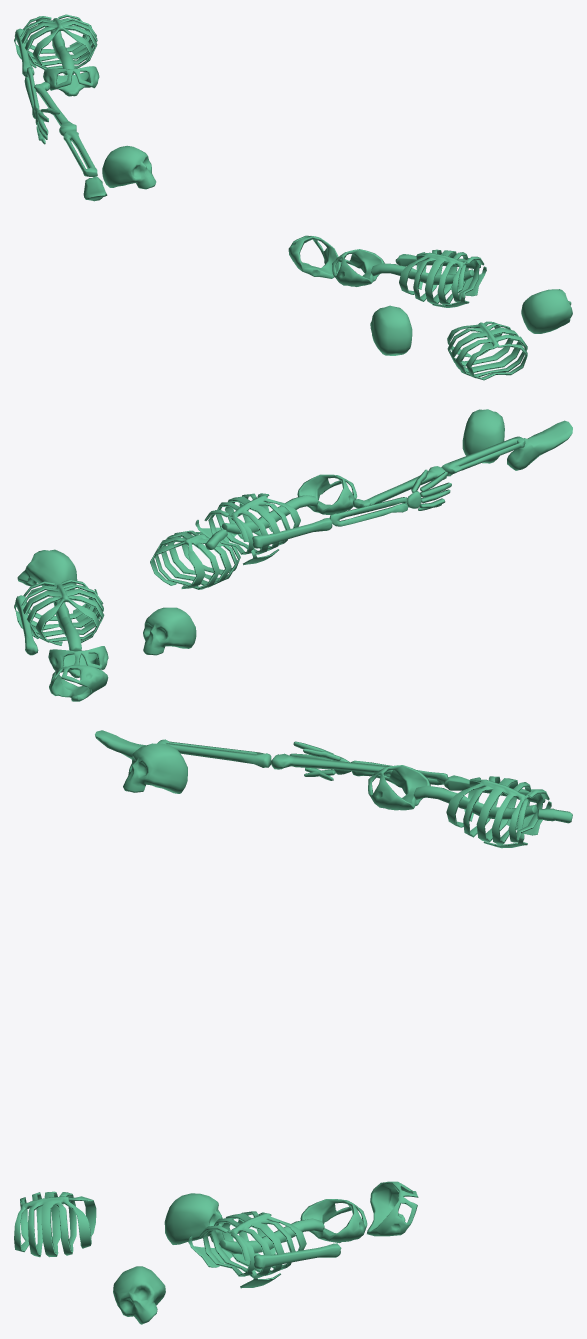
Rendered from Coffin_03B_Lod0.fbx.
3 renders of one model, top to bottom at view 1: azimuth 30°, elevation 25°; view 2: azimuth 150°, elevation 25°; view 3: azimuth 270°, elevation 25°, orthographic. The views are drawn at different scales.
Visible parts, largest first — view 1: Coffin_03B_Lod0; view 2: Coffin_03B_Lod0; view 3: Coffin_03B_Lod0.
Boxes of the visible parts, x1,y1,x2,y2 form: Coffin_03B_Lod0: [14, 14, 572, 380]; Coffin_03B_Lod0: [14, 409, 572, 701]; Coffin_03B_Lod0: [14, 730, 572, 1324].
Size of the model in its own units: 202 by 110 by 163.
